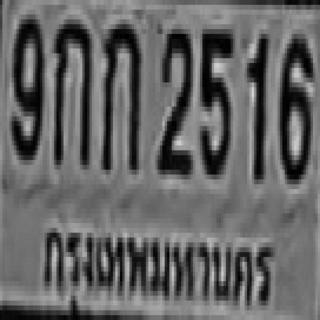A01: (99, 17, 139, 167), (52, 12, 89, 162)
N01: (245, 27, 266, 177)
N02: (155, 24, 191, 170)
N05: (198, 24, 230, 175)
N06: (278, 29, 310, 179)
N09: (10, 10, 42, 155)
P04: (37, 217, 277, 312)
